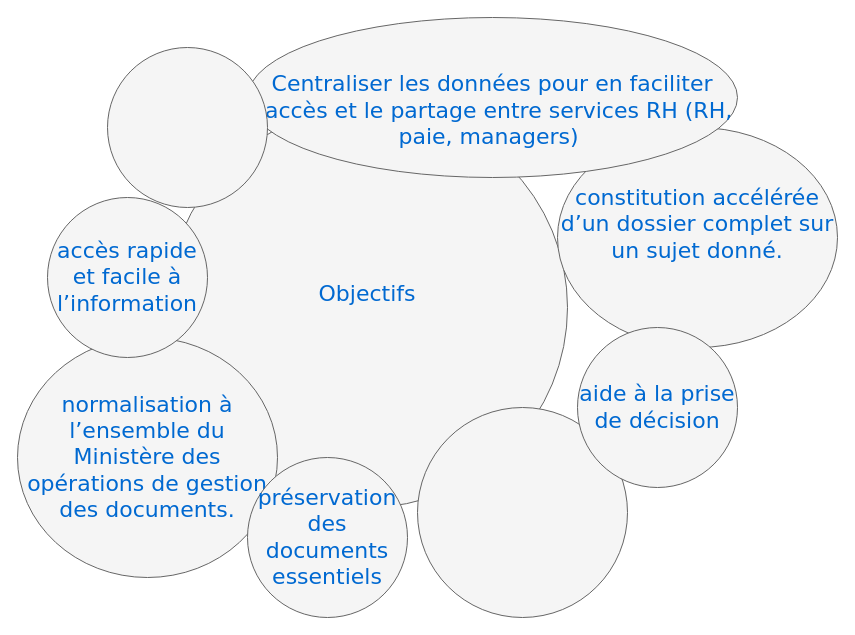
Some shapes in this 855 by 635 pixel diagram are drawn without their labels. The shapes that lost their labels are listed below. From the top down, each one's centre as x and y in pixels, then its label:
At point (187, 127): "économie d’espace".
At point (522, 512): "identification des documents actifs, semi-actifs et inactifs".
